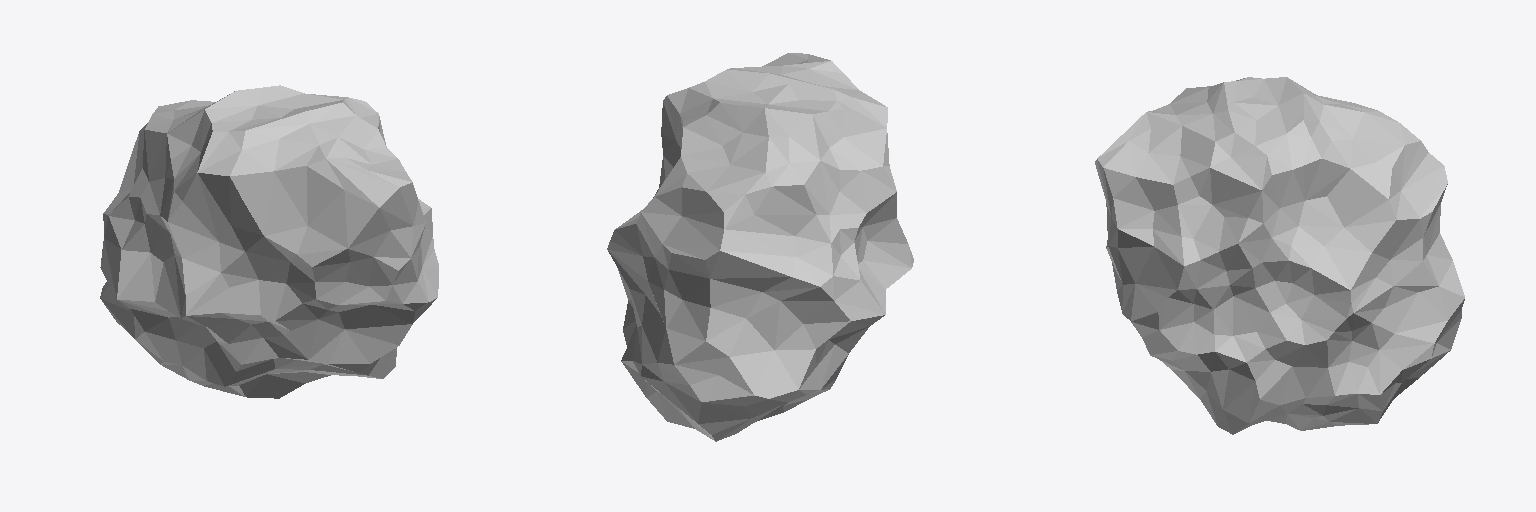
Rendered from rock_006.obj.
The picture shows the model from 3 angles: view 1: azimuth 30°, elevation 25°; view 2: azimuth 150°, elevation 25°; view 3: azimuth 270°, elevation 25°; orthographic projection.
Parts seen in each view (by area): view 1: rock.008; view 2: rock.008; view 3: rock.008.
Part boxes in pixels (bbox=[...]): rock.008: bbox=[100, 85, 438, 398]; rock.008: bbox=[607, 53, 913, 441]; rock.008: bbox=[1095, 77, 1464, 434].
Bounding box in the file's own units: 3.77 × 4.44 × 4.7.